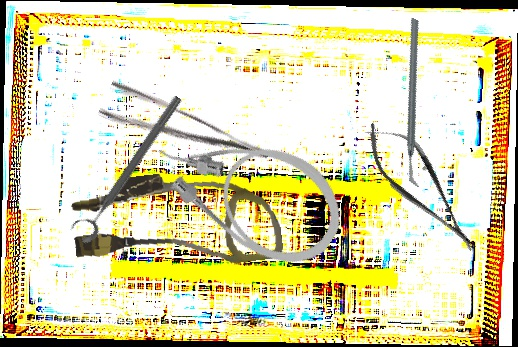Cannula: (139, 91, 361, 285), (67, 159, 285, 283)
Chopper: (346, 16, 485, 189)
Dressing Forceps: (97, 77, 271, 188)
Fixation Ring: (66, 87, 187, 247)
Micro Scissor: (353, 108, 490, 266)
